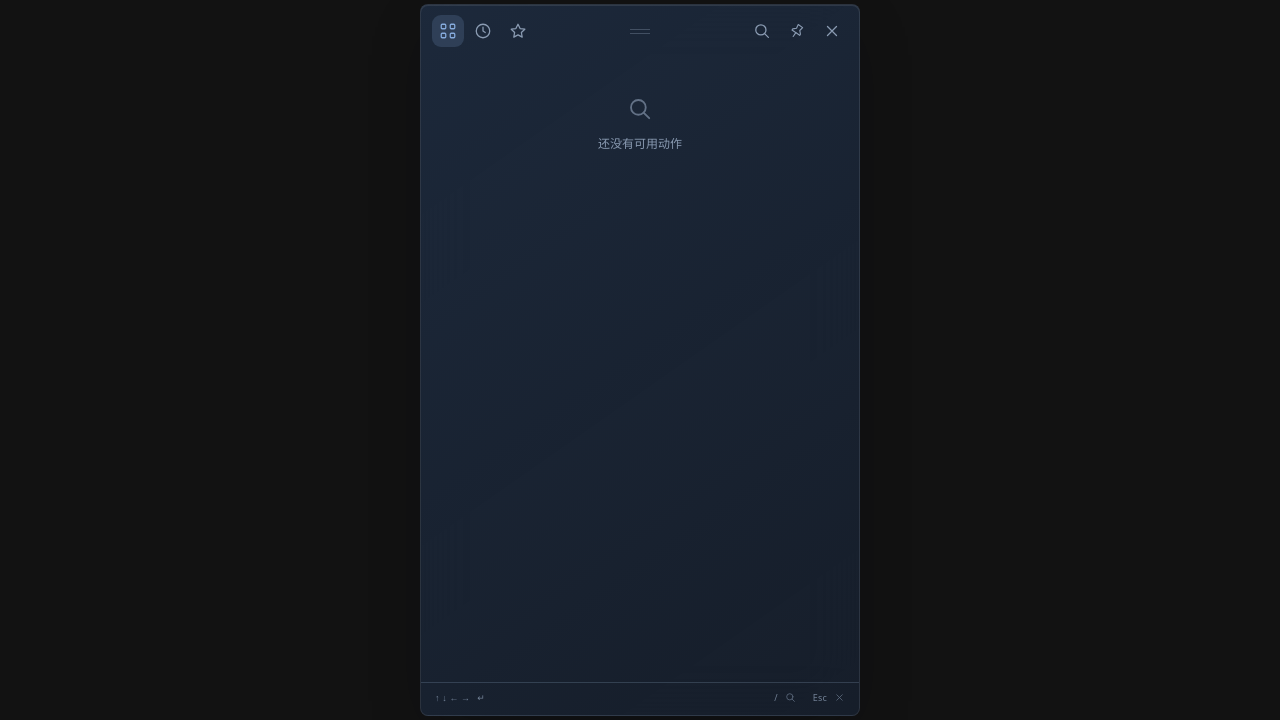
Test: LauncherPage native window interactions › 置顶失败时保留原状态并展示错误，避免按钮与原生窗口状态不一致
Click the button named "置顶快速动作面板". click: [797, 31]
box: [781,15,813,47]
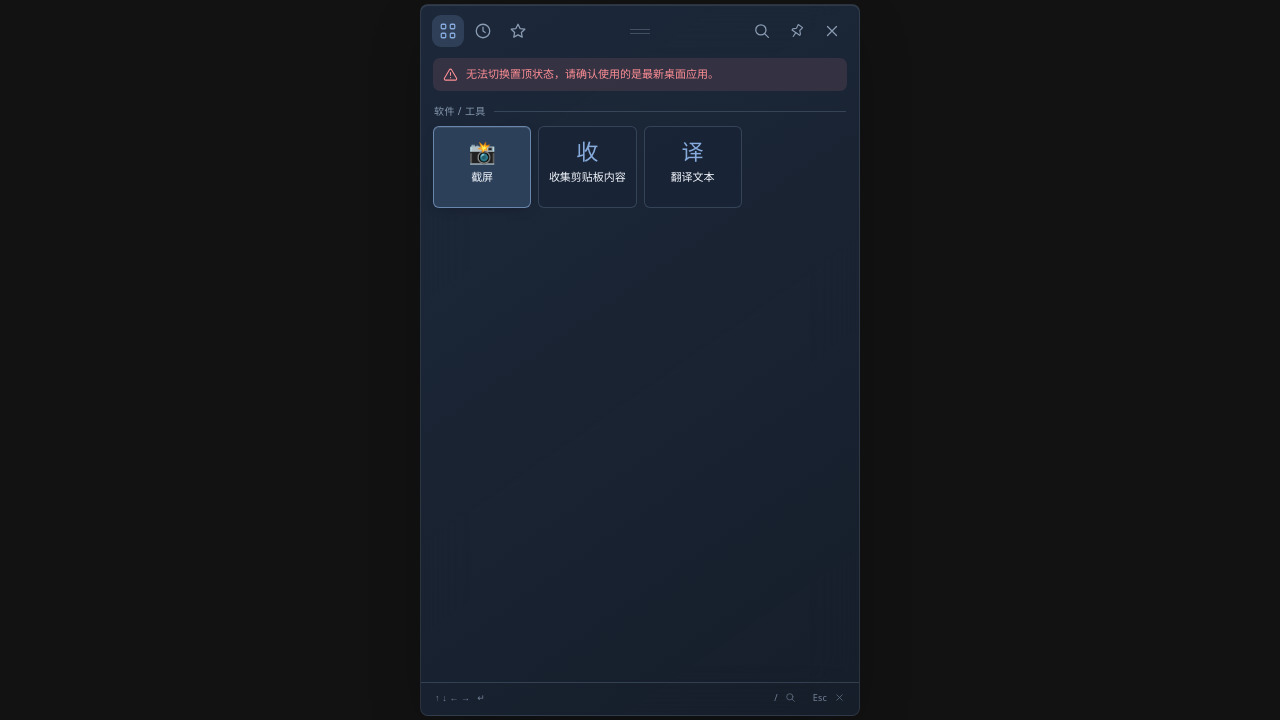
Check: the message shows "无法切换置顶状态", box [466,66,719,81]
